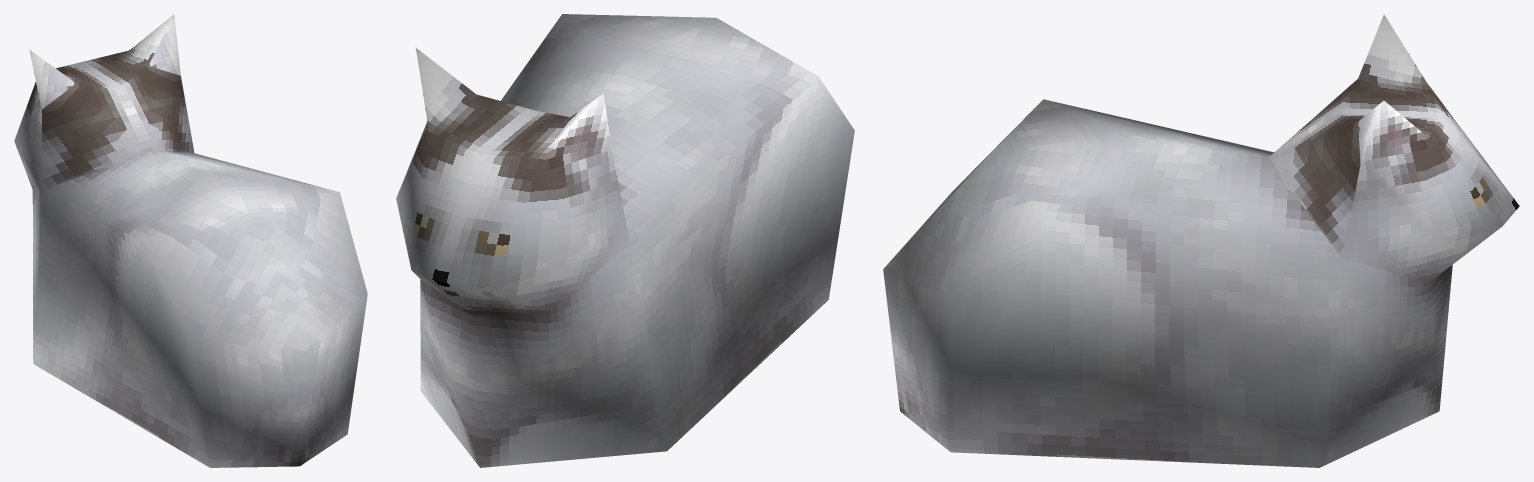
Rendered from CatLoafWhite64.glb.
The picture shows the model from 3 angles, left to right: view 1: azimuth 30°, elevation 25°; view 2: azimuth 150°, elevation 25°; view 3: azimuth 270°, elevation 25°; orthographic projection. The views are drawn at different scales.
Visible parts, largest first — view 1: CatLoafWhite64; view 2: CatLoafWhite64; view 3: CatLoafWhite64.
Part boxes in pixels (<box>): CatLoafWhite64: <box>14,14,367,467</box>; CatLoafWhite64: <box>396,14,854,467</box>; CatLoafWhite64: <box>883,14,1519,467</box>.
Bounding box in the file's own units: 0.1732 × 0.2427 × 0.3954.
1 material, 1 textured.
